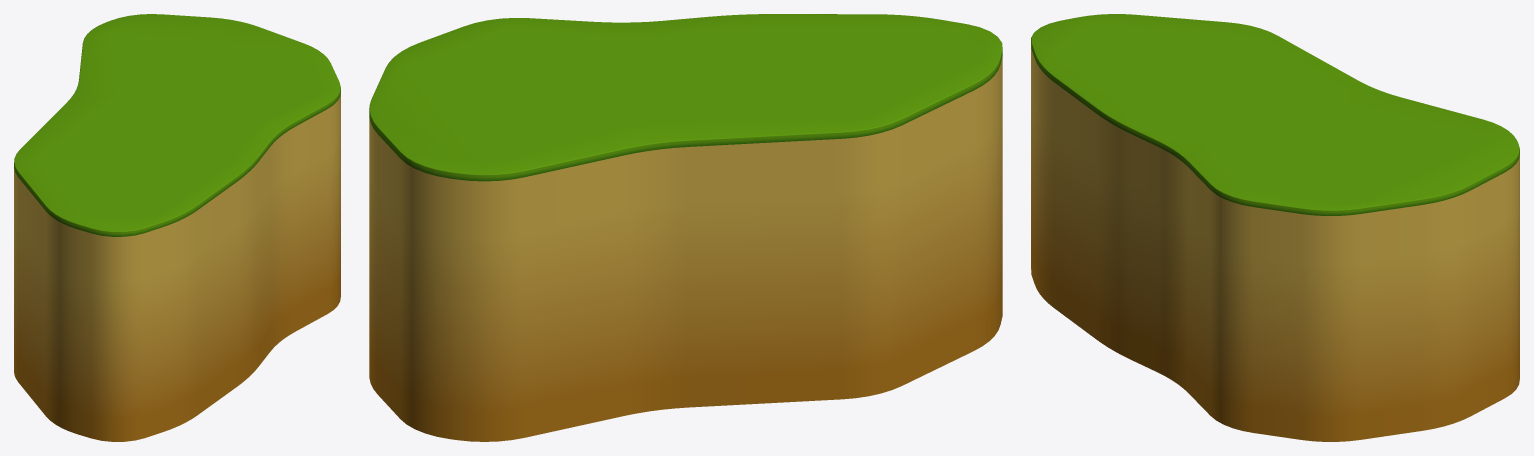
Rendered from LM100NAT05.fbx.
The picture shows the model from 3 angles, left to right: view 1: azimuth 30°, elevation 25°; view 2: azimuth 150°, elevation 25°; view 3: azimuth 270°, elevation 25°; orthographic projection. The views are drawn at different scales.
Parts seen in each view (by area): view 1: LOD0; view 2: LOD0; view 3: LOD0.
Boxes of the visible parts, x1,y1,x2,y2 form: LOD0: (14,14,340,441); LOD0: (369,14,1002,441); LOD0: (1031,14,1519,441).
Size of what is drawn, in the model's own units: 9092 by 9556 by 5000.
